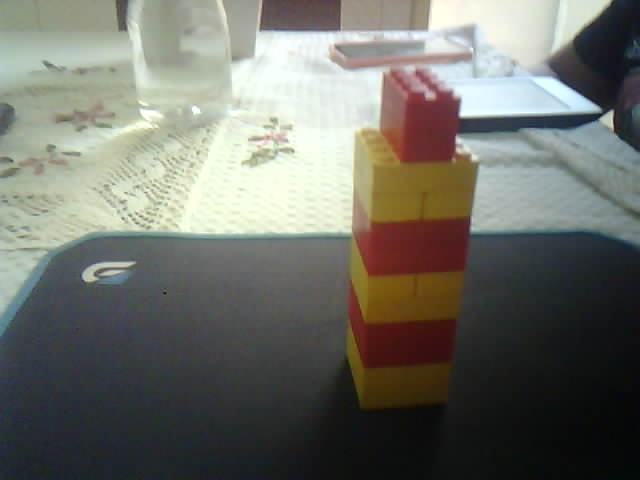lego: (345, 65, 480, 410)
